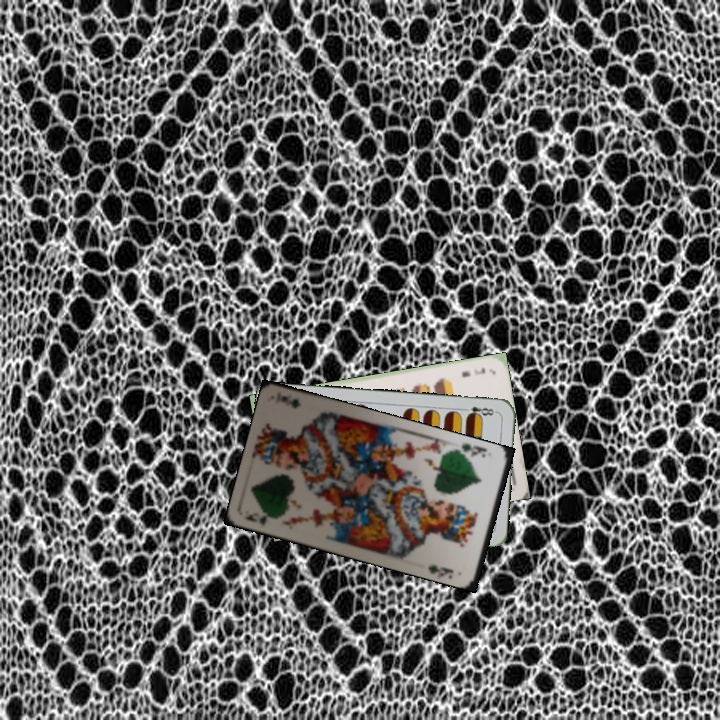E7: (458, 363, 488, 380)
E8: (459, 402, 499, 420)
GK: (241, 508, 283, 529), (455, 439, 490, 460)
